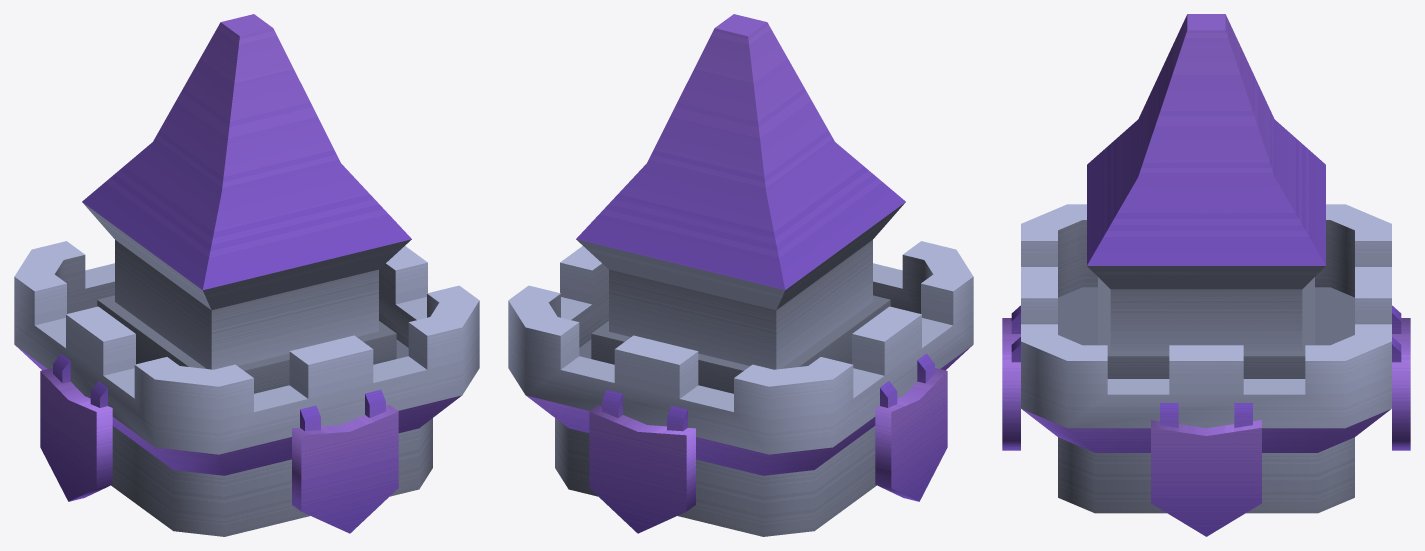
Rendered from tower-square-roof-a.glb.
3 views of the same model, side by side, from view 1: azimuth 30°, elevation 25°; view 2: azimuth 150°, elevation 25°; view 3: azimuth 270°, elevation 25° (orthographic).
Visible parts, largest first — view 1: tower-square-roof-a; view 2: tower-square-roof-a; view 3: tower-square-roof-a.
Boxes of the visible parts, x1,y1,x2,y2 form: tower-square-roof-a: (14, 14, 479, 536); tower-square-roof-a: (508, 14, 973, 536); tower-square-roof-a: (1002, 14, 1410, 536).
Size of the model in its own units: 1.1 by 1.27 by 1.1.
Materials: 1 (1 with a texture image).
